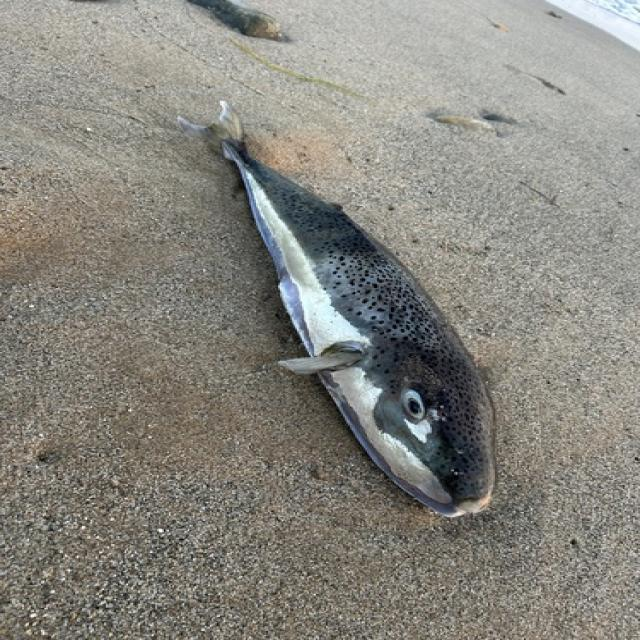Balik: (180, 103, 494, 515)
